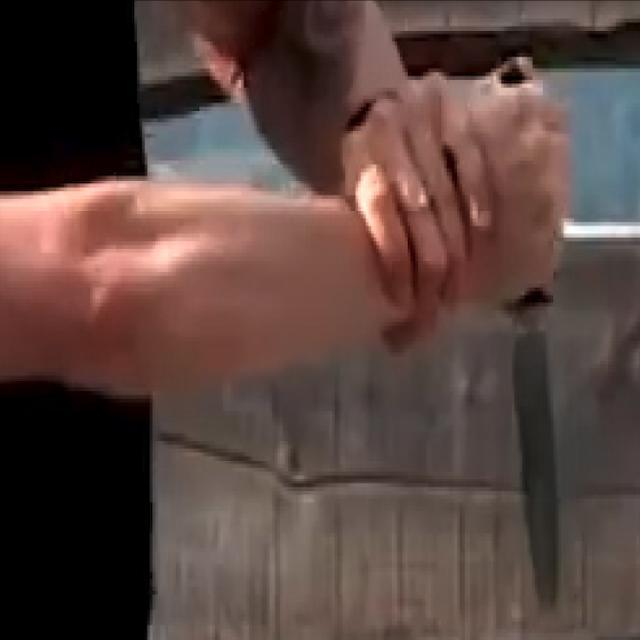suspicion: (8, 36, 576, 631), (501, 299, 566, 624), (492, 42, 546, 90)
